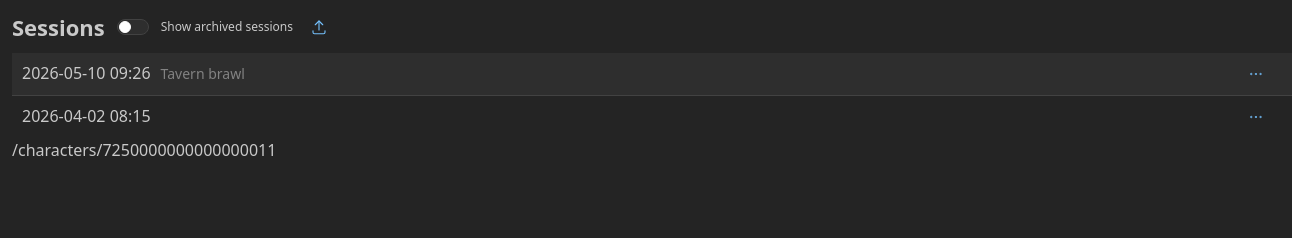
a failed row action reports inline in the section (D18) › shows Could not archive the session., keeps the row and raises no notification — DoD-11
This screenshot has width=1292, height=238.
Click the button named "actions for ": (1256, 74) [1242,60,1270,88]
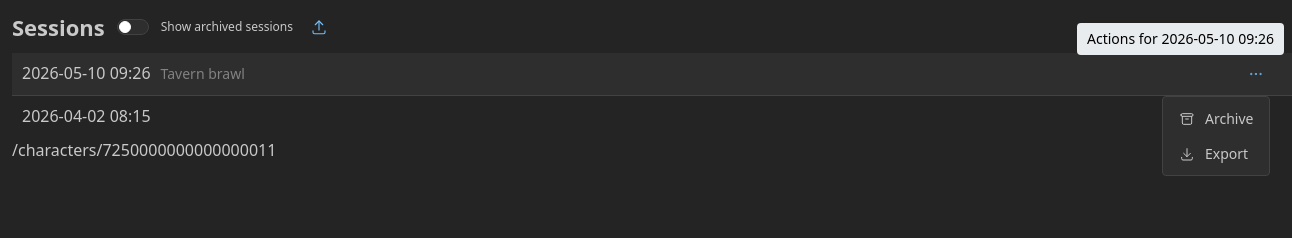
Click the menu item "Archive": (1216, 118) [1166,101,1265,136]
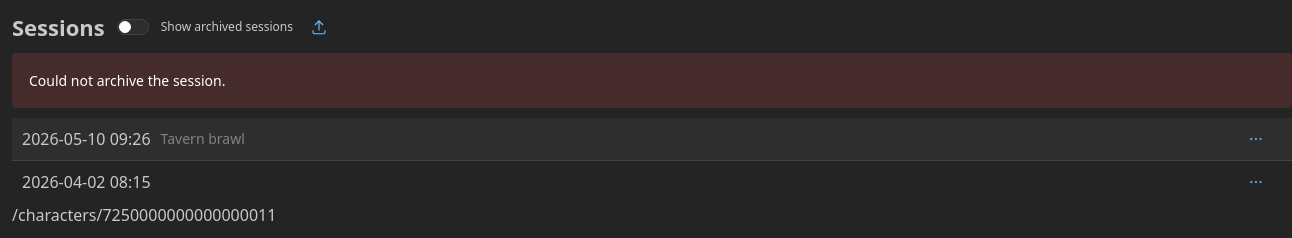
Check: the row "2026-05-10 09:26 Tavern brawl" is shown, box [12,118,1291,161]
Check: the text "Could not archive the session." is shown, box [29,71,225,90]
